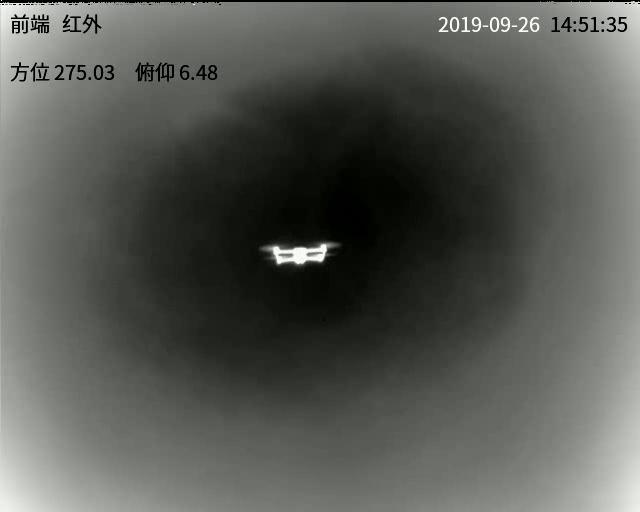DRONE: (264, 243, 334, 267)
